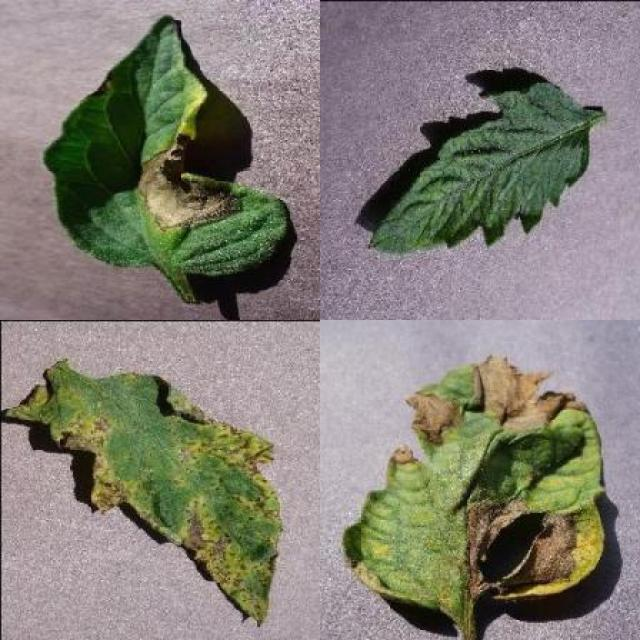Early Blight: (45, 15, 288, 278)
Late Blight: (340, 354, 610, 609)
Mosaic Virus: (366, 78, 594, 255)
Septoria: (5, 359, 284, 627)
